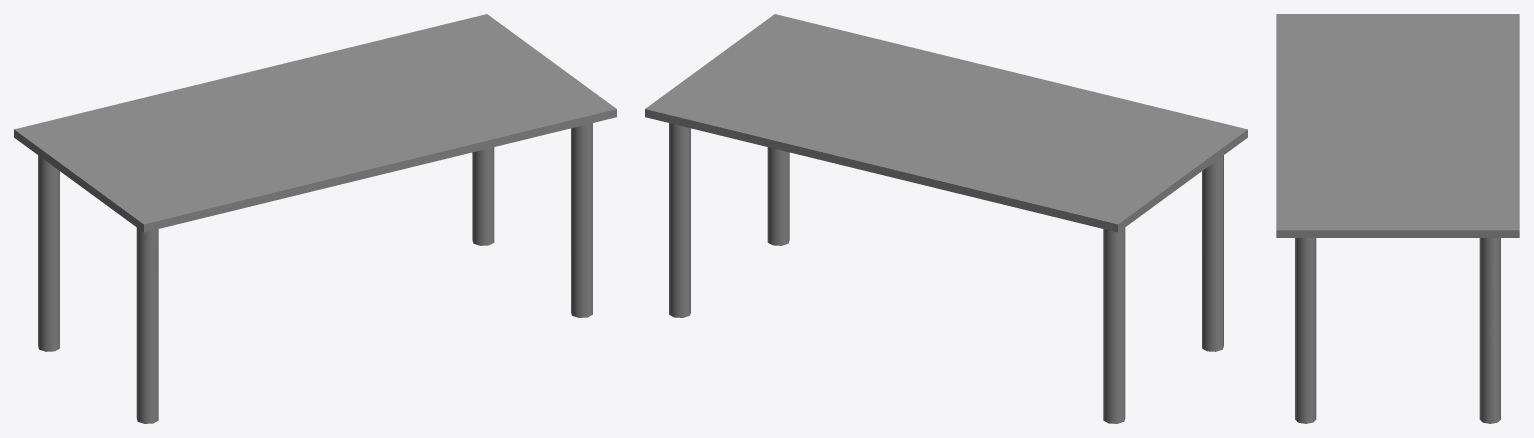
Rendered from ComputerDesk_02_snaps001.fbx.
The picture shows the model from 3 angles, left to right: view 1: azimuth 30°, elevation 25°; view 2: azimuth 150°, elevation 25°; view 3: azimuth 270°, elevation 25°; orthographic projection. The views are drawn at different scales.
Visible parts, largest first — view 1: ComputerDesk_02_snaps001; view 2: ComputerDesk_02_snaps001; view 3: ComputerDesk_02_snaps001.
Part boxes in pixels (x1,y1,x2,y2): ComputerDesk_02_snaps001: (14,14,616,423); ComputerDesk_02_snaps001: (645,14,1247,423); ComputerDesk_02_snaps001: (1276,14,1519,423).
Bounding box in the file's own units: 1.91 × 0.8125 × 0.9063.
Materials: 1 (1 with a texture image).
